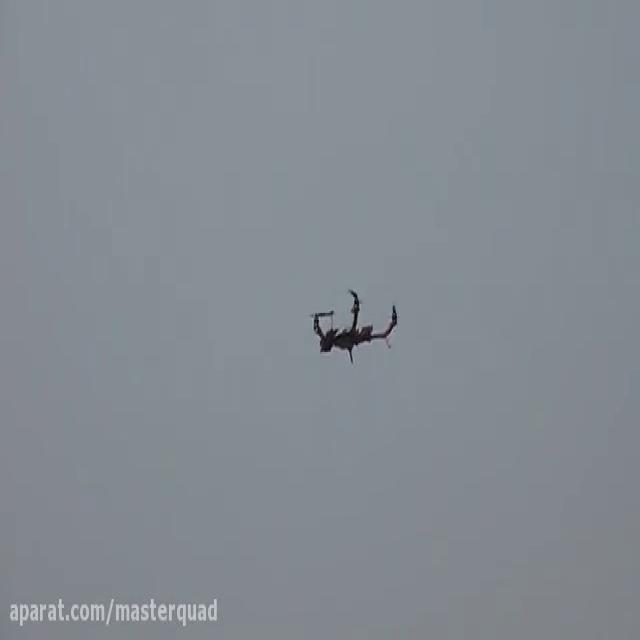drone: (299, 281, 401, 368)
